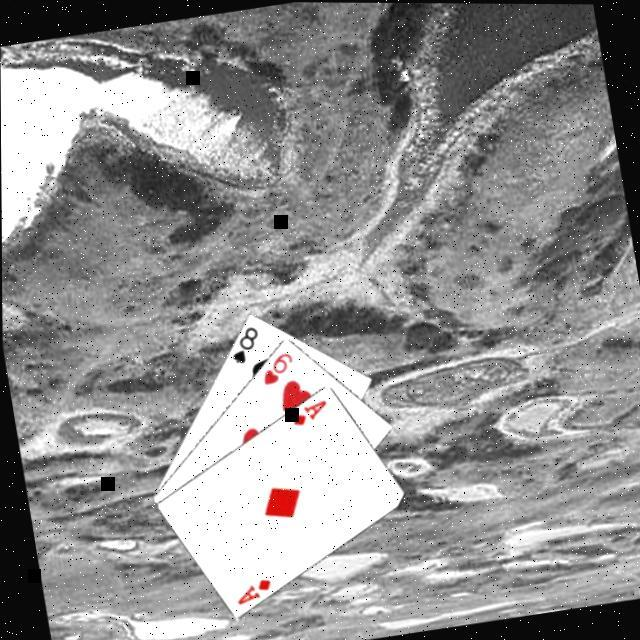6H: (258, 348, 301, 390)
8S: (226, 322, 266, 369)
AD: (232, 574, 278, 608), (288, 397, 334, 430)
